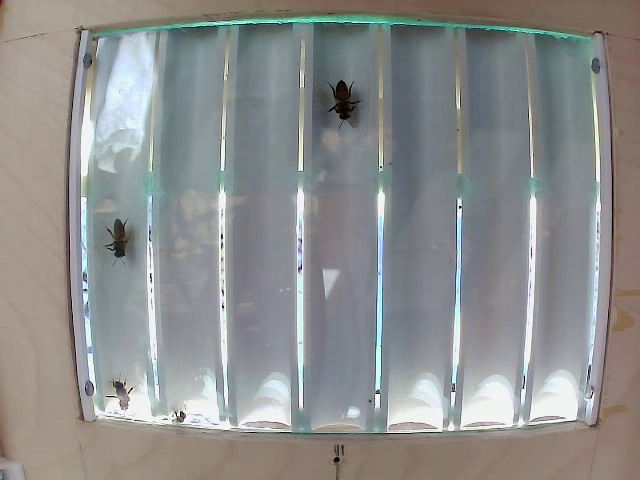bee: (324, 80, 370, 141), (108, 210, 141, 271)
